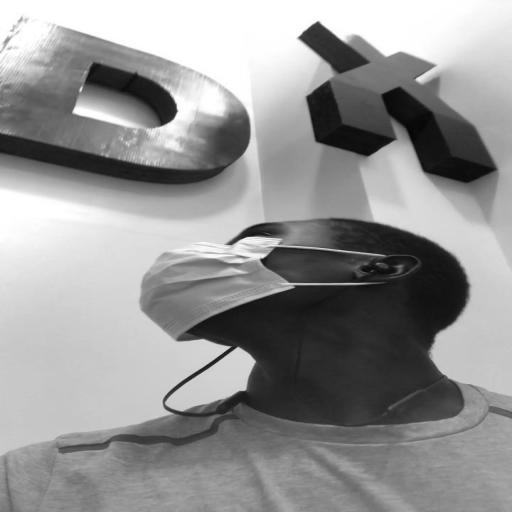mask: (138, 218, 384, 342)
